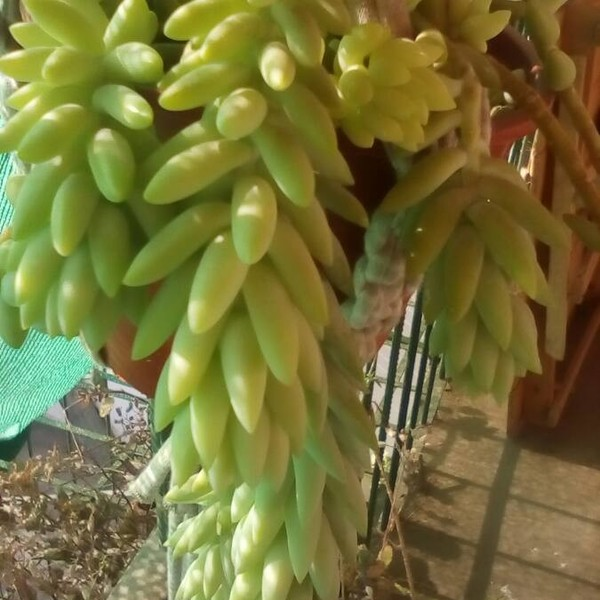obstacle: (155, 3, 369, 562), (328, 25, 553, 396), (157, 29, 363, 346)
